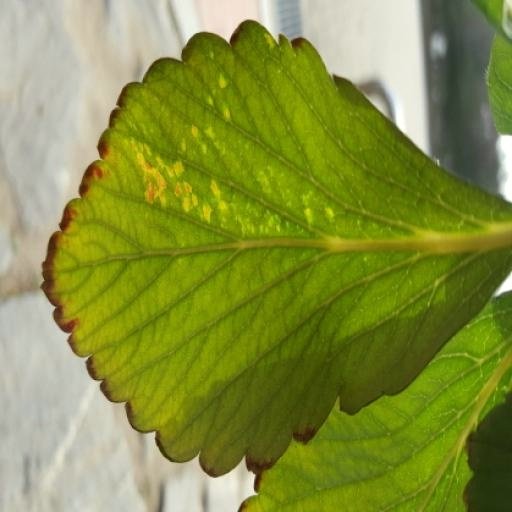Angular Leafspot: (167, 32, 395, 243)
